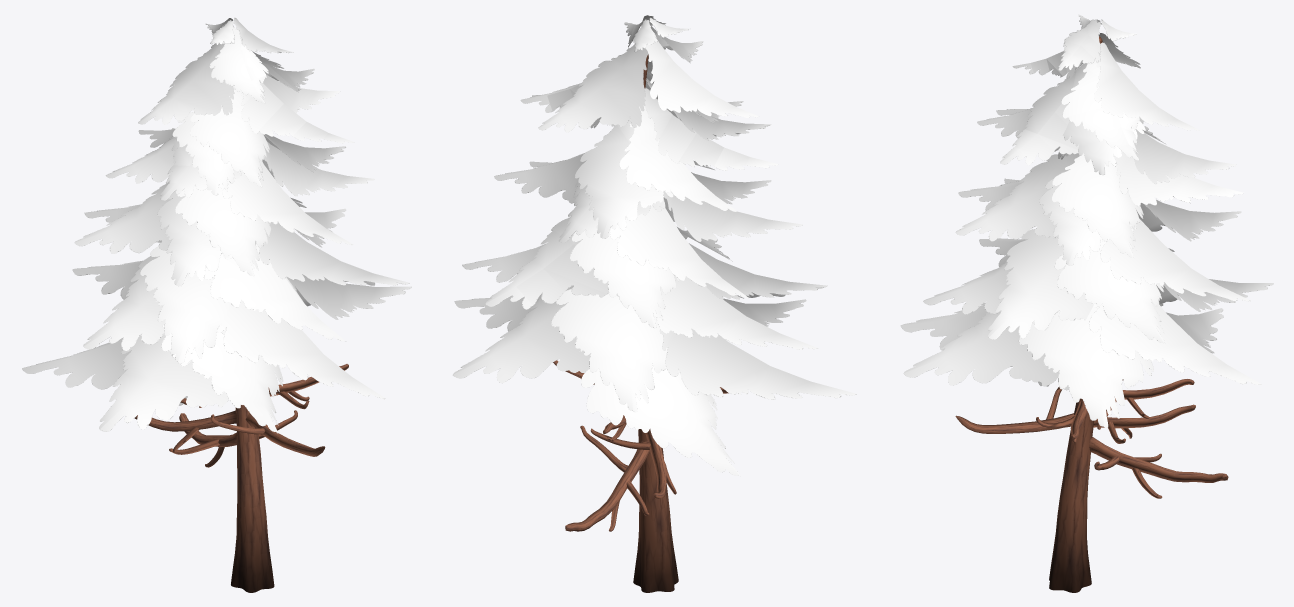
The model's file is Pine_1.gltf.
3 renders of one model, left to right at view 1: azimuth 30°, elevation 25°; view 2: azimuth 150°, elevation 25°; view 3: azimuth 270°, elevation 25°, orthographic. The views are drawn at different scales.
Parts seen in each view (by area): view 1: Pine_1; view 2: Pine_1; view 3: Pine_1.
Boxes of the visible parts, x1,y1,x2,y2 form: Pine_1: [22, 18, 411, 592]; Pine_1: [453, 15, 856, 592]; Pine_1: [900, 14, 1273, 592].
Size of the model in its own units: 4.94 by 7.32 by 4.54.
Materials: 2 (2 with a texture image).
